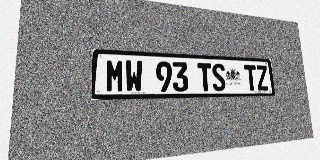3: (172, 62, 188, 92)
9: (156, 61, 173, 92)
M: (105, 59, 124, 93)
S: (211, 63, 226, 91)
T: (197, 63, 213, 91), (244, 65, 258, 91)
W: (125, 60, 143, 92)
Z: (256, 65, 269, 90)
